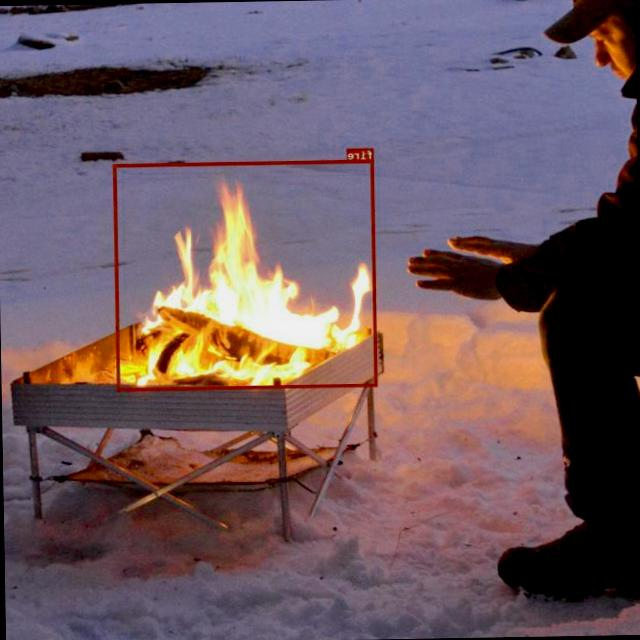fire: (114, 158, 378, 390)
